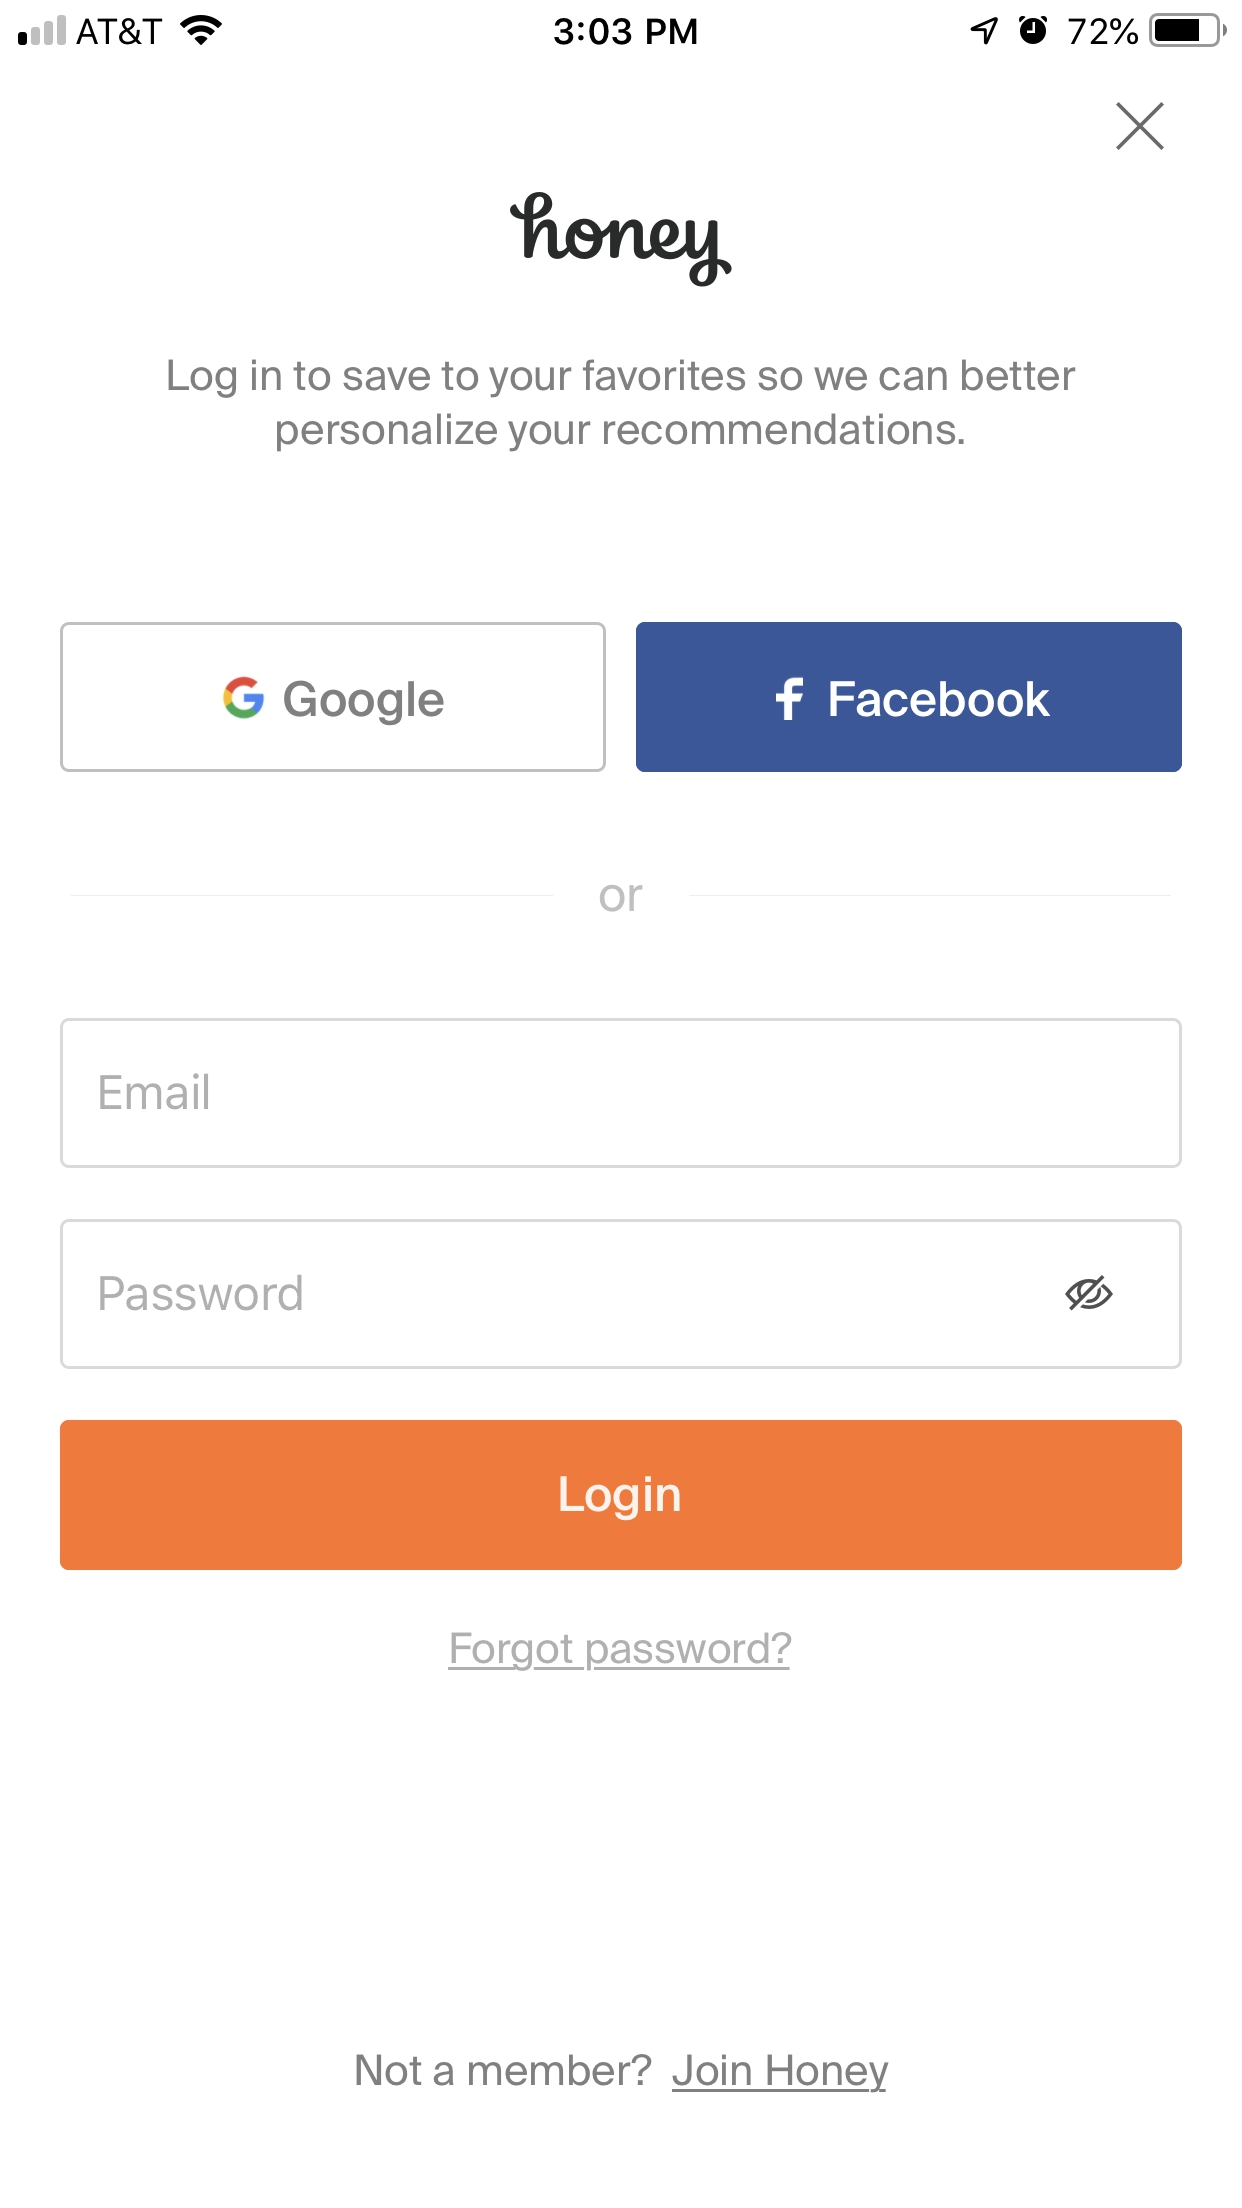EditText: (61, 1018, 1181, 1169), (61, 1219, 1181, 1369)
Icon: (1116, 102, 1165, 152), (1065, 1275, 1113, 1312)
Image: (510, 193, 732, 290)
Text: (168, 359, 1077, 453), (356, 2053, 890, 2094), (449, 1632, 793, 1671), (100, 1274, 303, 1312), (100, 1074, 209, 1112), (601, 884, 645, 913)
TextButton: (61, 1421, 1181, 1571), (61, 622, 607, 773), (635, 622, 1181, 773)
UpperTaskBar: (2, 2, 1242, 49)
